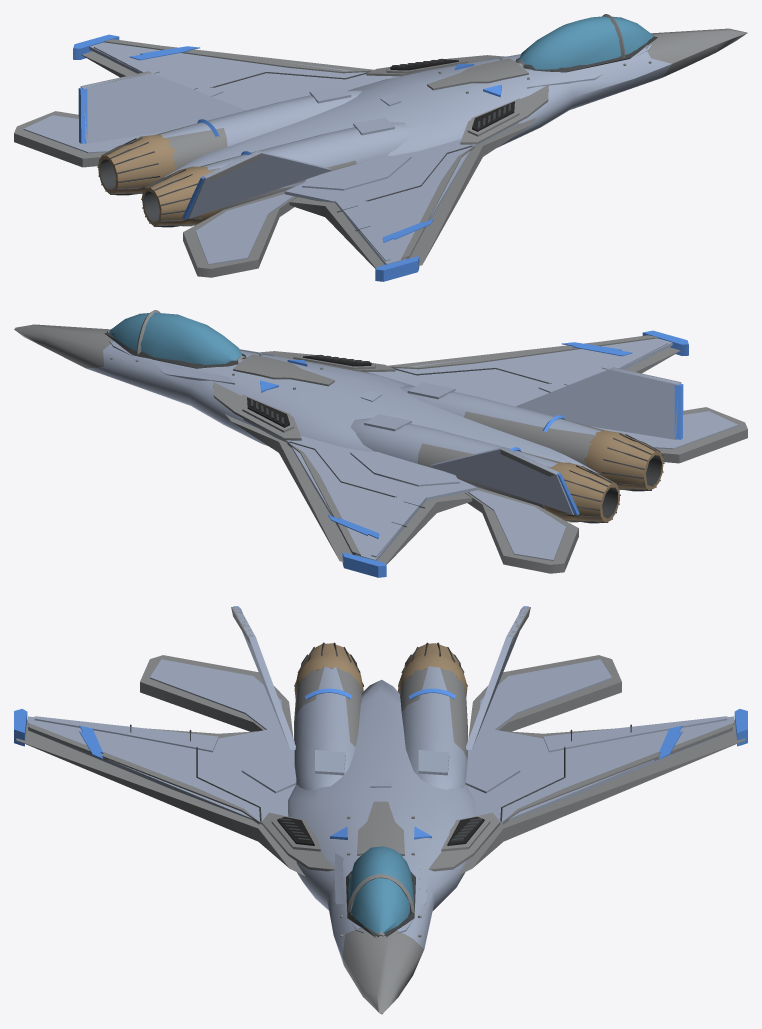
The model's file is jet.glb.
3 views of the same model, one above another, from view 1: azimuth 30°, elevation 25°; view 2: azimuth 150°, elevation 25°; view 3: azimuth 270°, elevation 25° (orthographic). The views are drawn at different scales.
Visible parts, largest first — view 1: Body; view 2: Body; view 3: Body.
Part boxes in pixels (left/top/right/bottom): Body: left=14, top=14, right=747, bottom=281; Body: left=14, top=310, right=747, bottom=577; Body: left=14, top=606, right=747, bottom=1014.
Bounding box in the file's own units: 16.99 × 2.27 × 14.18.
